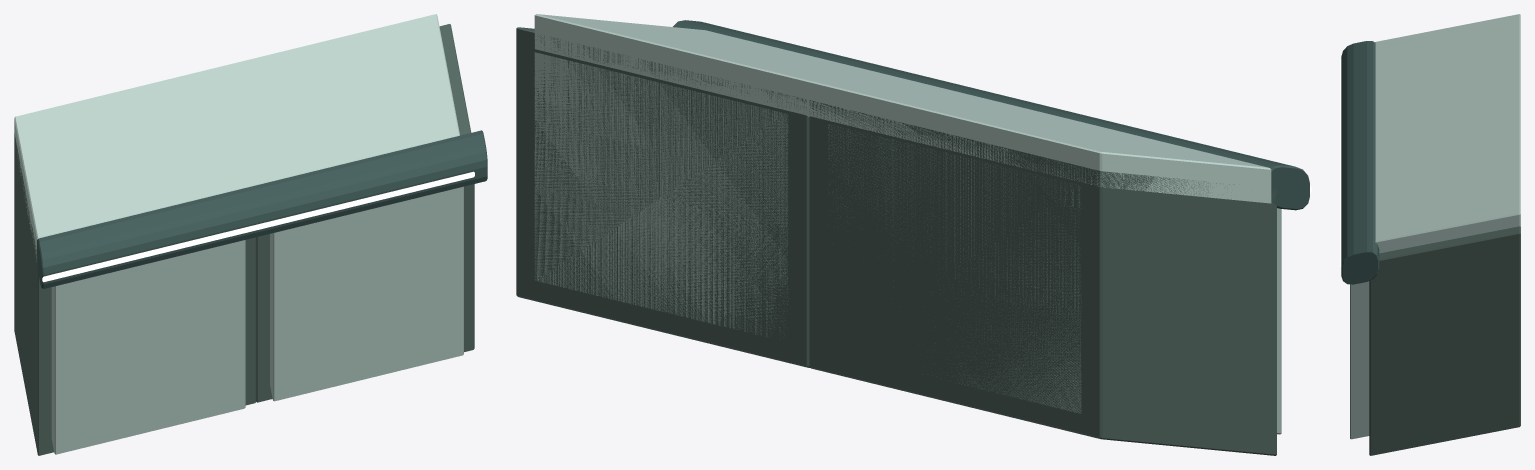
The model's file is Terrain_TopRun2R.gltf.
3 renders of one model, left to right at view 1: azimuth 30°, elevation 25°; view 2: azimuth 150°, elevation 25°; view 3: azimuth 270°, elevation 25°, orthographic. The views are drawn at different scales.
Visible parts, largest first — view 1: Terrain_TopRun2R_baked; view 2: Terrain_TopRun2R_baked; view 3: Terrain_TopRun2R_baked.
Part boxes in pixels (x1=…): Terrain_TopRun2R_baked: x1=14, y1=14, x2=487, y2=455; Terrain_TopRun2R_baked: x1=516, y1=14, x2=1311, y2=455; Terrain_TopRun2R_baked: x1=1340, y1=14, x2=1520, y2=455.
Bounding box in the file's own units: 2.29 × 1.18 × 0.74.
